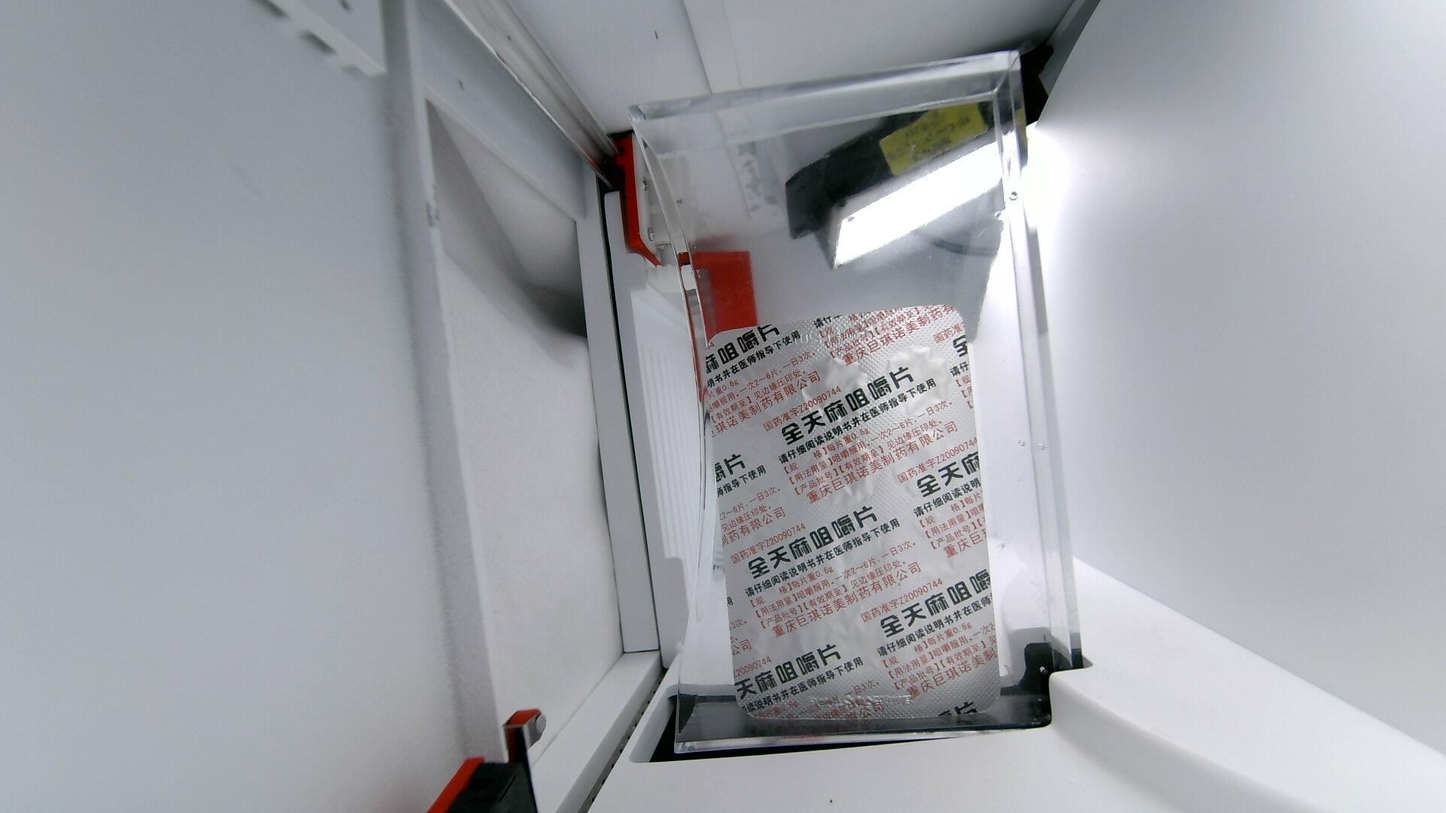Pill Back: (793, 341, 876, 422), (711, 338, 782, 428), (906, 598, 983, 678), (822, 602, 891, 690), (798, 430, 880, 504), (734, 605, 810, 682), (880, 344, 959, 418), (894, 426, 972, 498), (819, 516, 892, 592), (715, 434, 779, 510), (735, 535, 806, 597), (921, 514, 981, 580)
